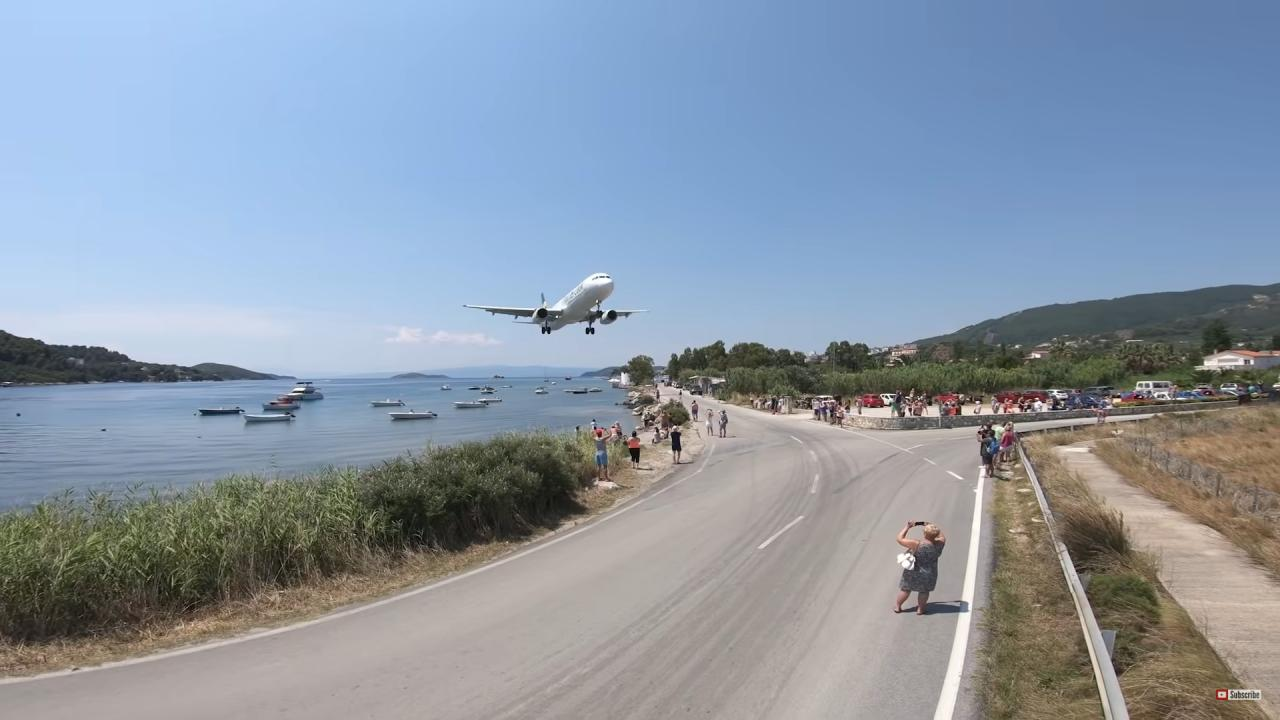Airplane: (455, 261, 661, 345)
